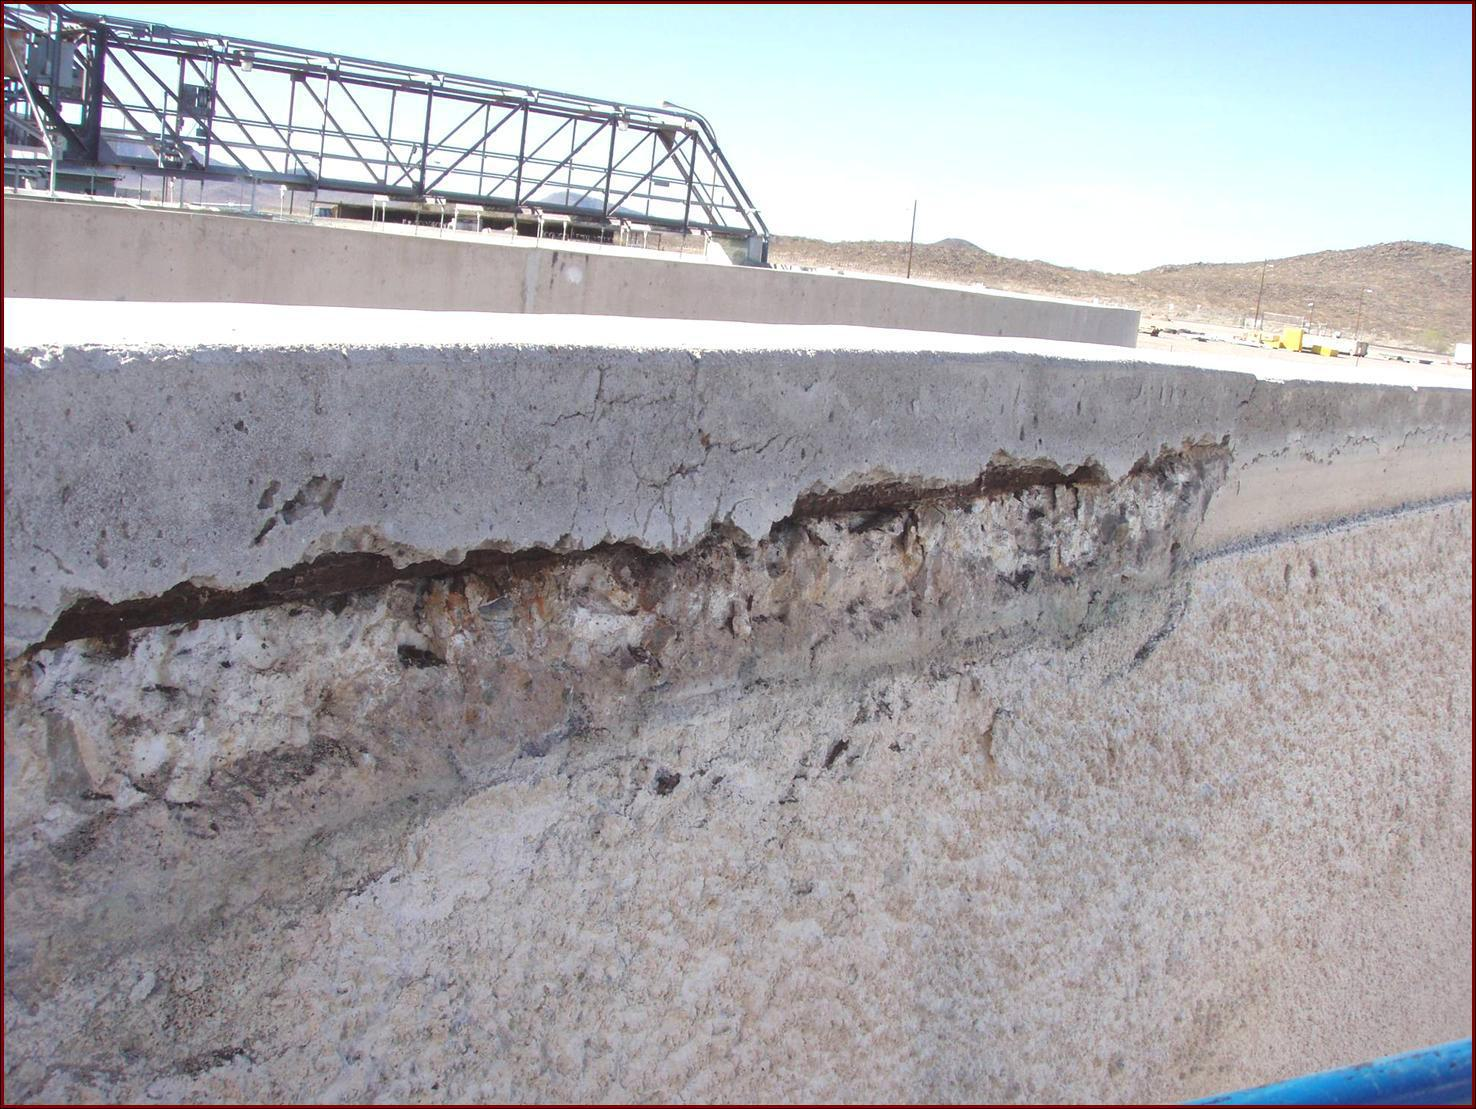Exposed reinforcement: (38, 448, 1186, 648)
Spalling: (1, 431, 1236, 888)
